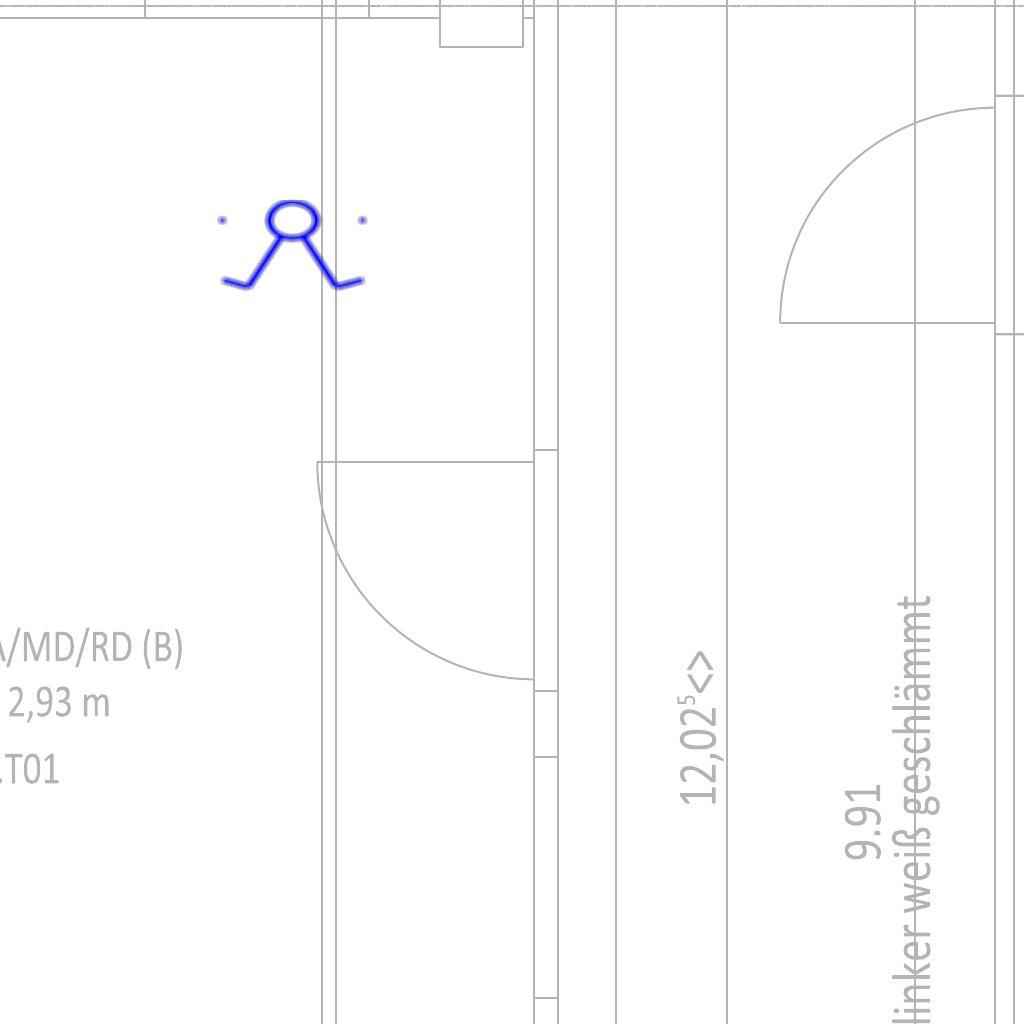Serienschalter: (210, 198, 378, 294)
